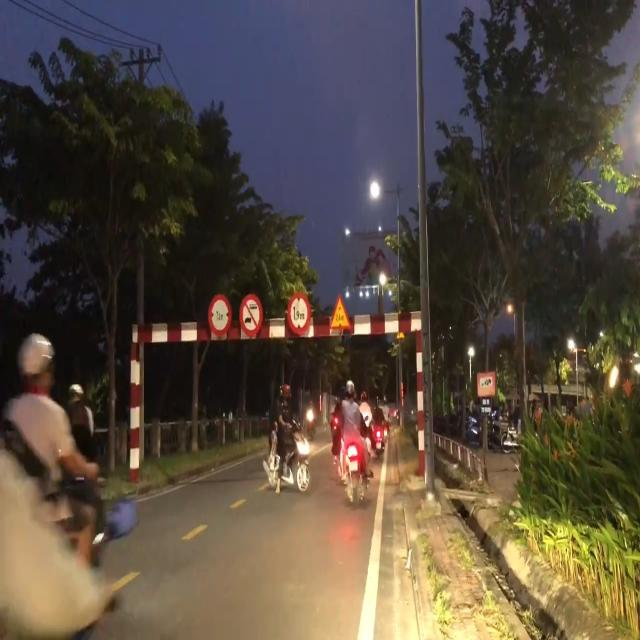Bien bao cam xe oto khach va xe oto tai: (239, 292, 265, 341)
Bien bao chieu cao tinh khong thuc te: (327, 292, 353, 335)
Bien bao han che chieu cao: (286, 289, 312, 338)
